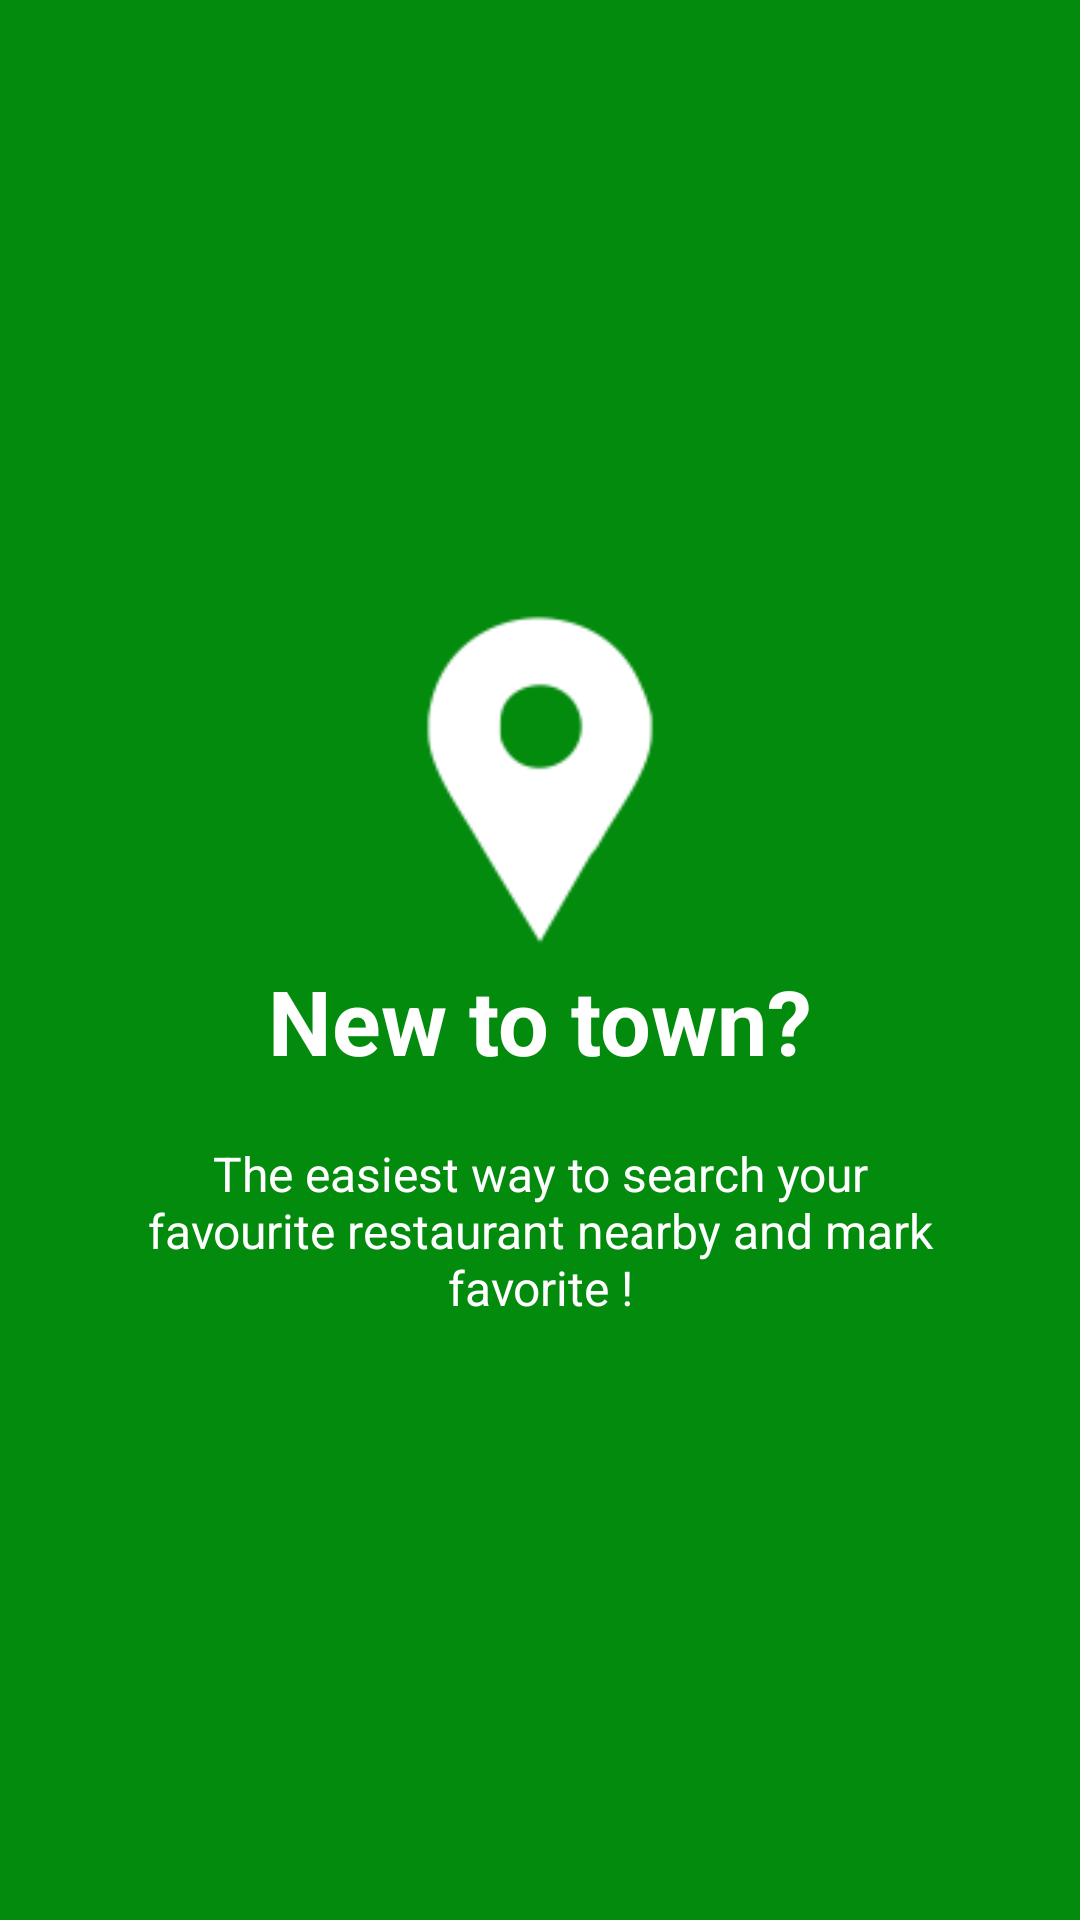

Icons on this 1080×1920 Android screen, each with the point to tap as point (x, y):
places nearby: point (540, 779)
